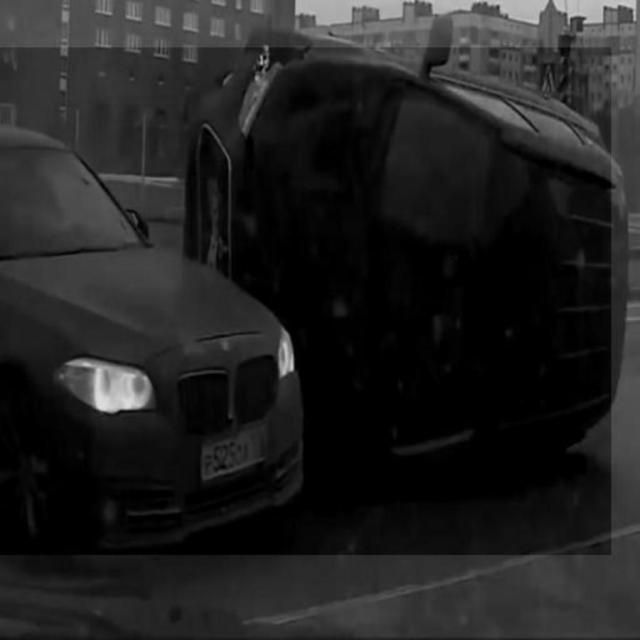accident: (1, 48, 612, 555)
